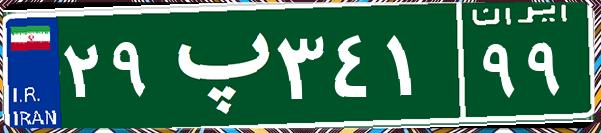1: (385, 28, 445, 110)
2: (57, 26, 110, 107)
3: (273, 28, 330, 110)
4: (330, 28, 385, 110)
9: (475, 38, 525, 113), (110, 28, 158, 105), (525, 38, 570, 115)
پ: (158, 15, 273, 115)
